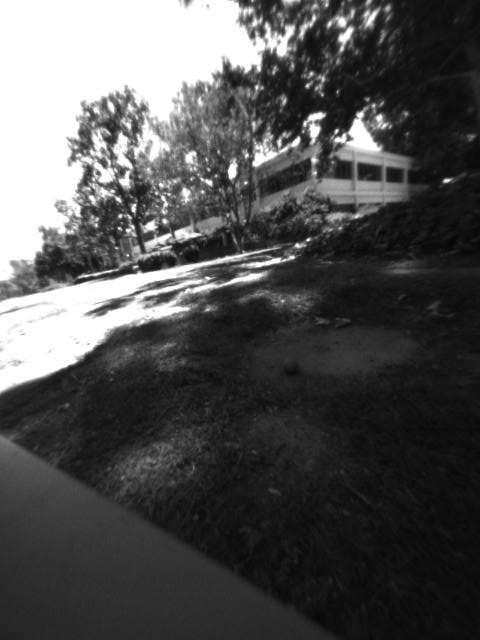dogtoy: (271, 346, 311, 383)
